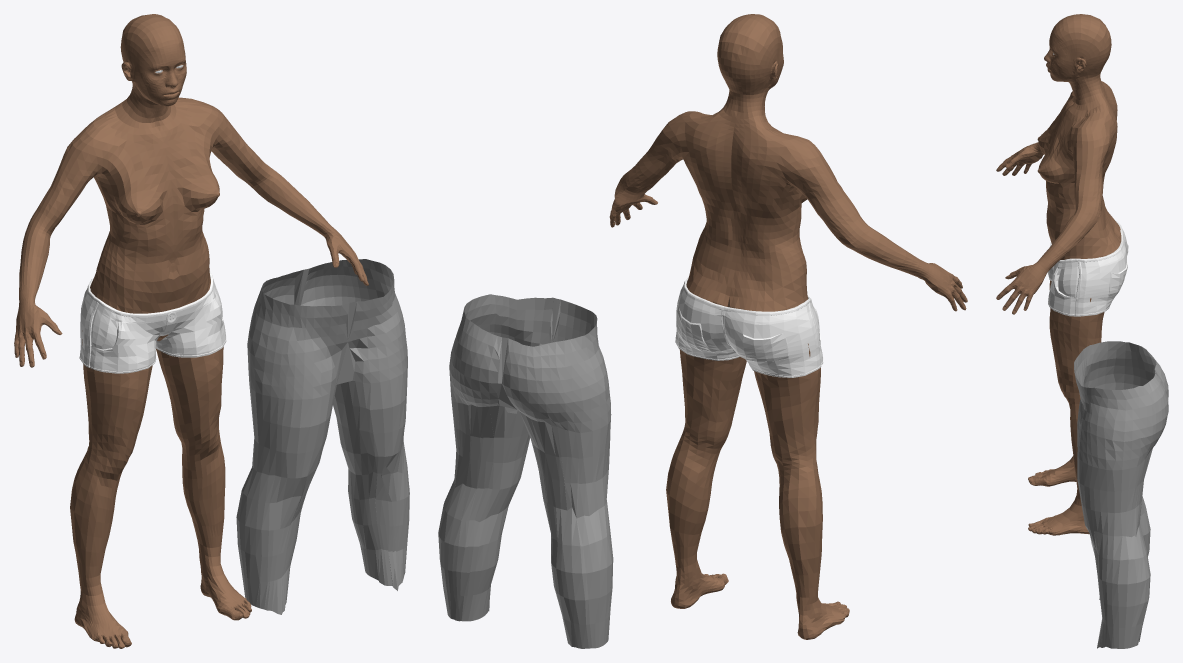
The model's file is pantf.obj.
The picture shows the model from 3 angles, left to right: view 1: azimuth 30°, elevation 25°; view 2: azimuth 150°, elevation 25°; view 3: azimuth 270°, elevation 25°; orthographic projection. The views are drawn at different scales.
Parts seen in each view (by area): view 1: female_modelBody, Cube, female_model_short01; view 2: female_modelBody, Cube, female_model_short01; view 3: female_modelBody, Cube, female_model_short01.
Part boxes in pixels (x1,y1,x2,y2): female_modelBody: (14, 14, 368, 648); Cube: (236, 259, 409, 614); female_model_short01: (79, 271, 226, 373); female_modelBody: (609, 14, 967, 639); Cube: (438, 294, 613, 648); female_model_short01: (675, 276, 823, 377); female_modelBody: (996, 14, 1121, 535); Cube: (1074, 341, 1168, 648); female_model_short01: (1048, 220, 1128, 316).
Bounding box in the file's own units: 12.64 × 17.16 × 5.07.
